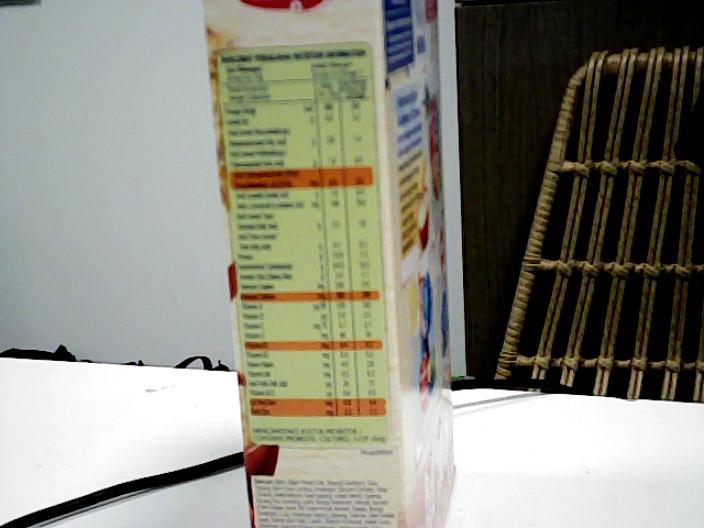Babyfood_200-299g_Halal_NonHealthy: (214, 1, 458, 528)
